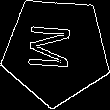M_E: (30, 26, 82, 75)
